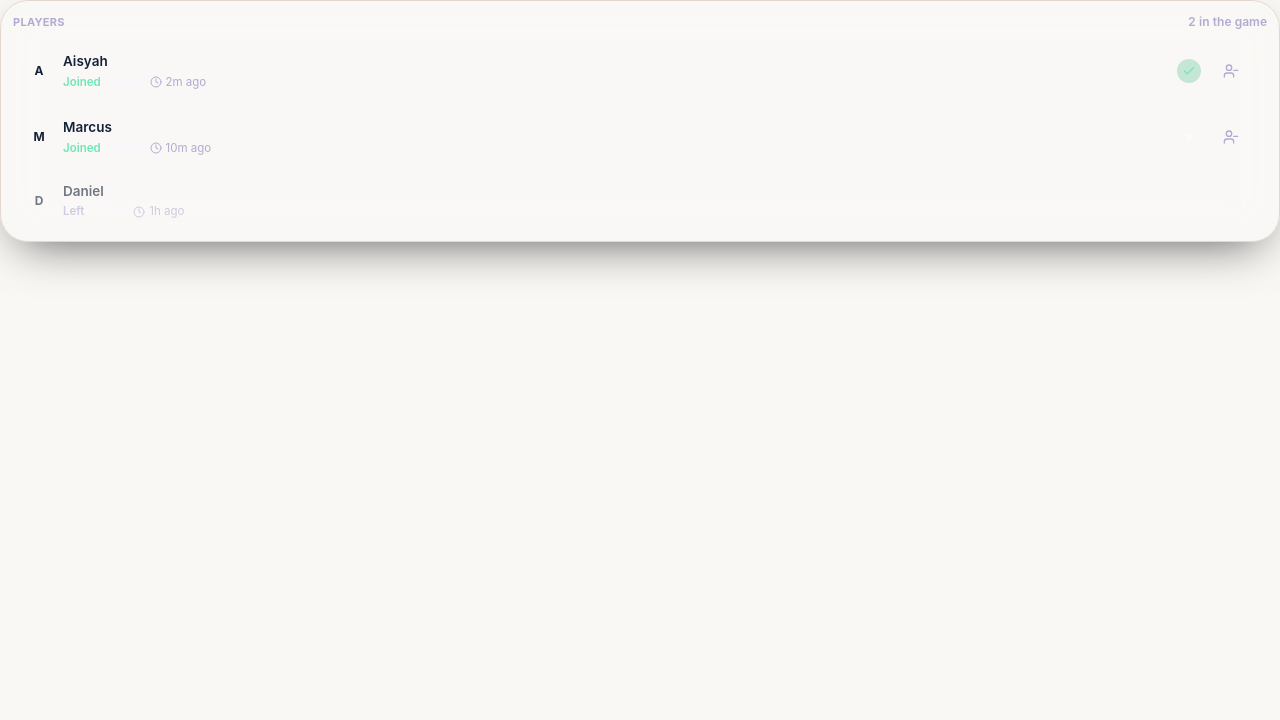
Test case: LiveQuizPlayerList › requires confirmation before removing, and passes the participant id
Later steps or results of the test are not shown.
Click the button named "Remove Aisyah from the game" at (1231, 71), box x1=1209 y1=49 x2=1253 y2=93
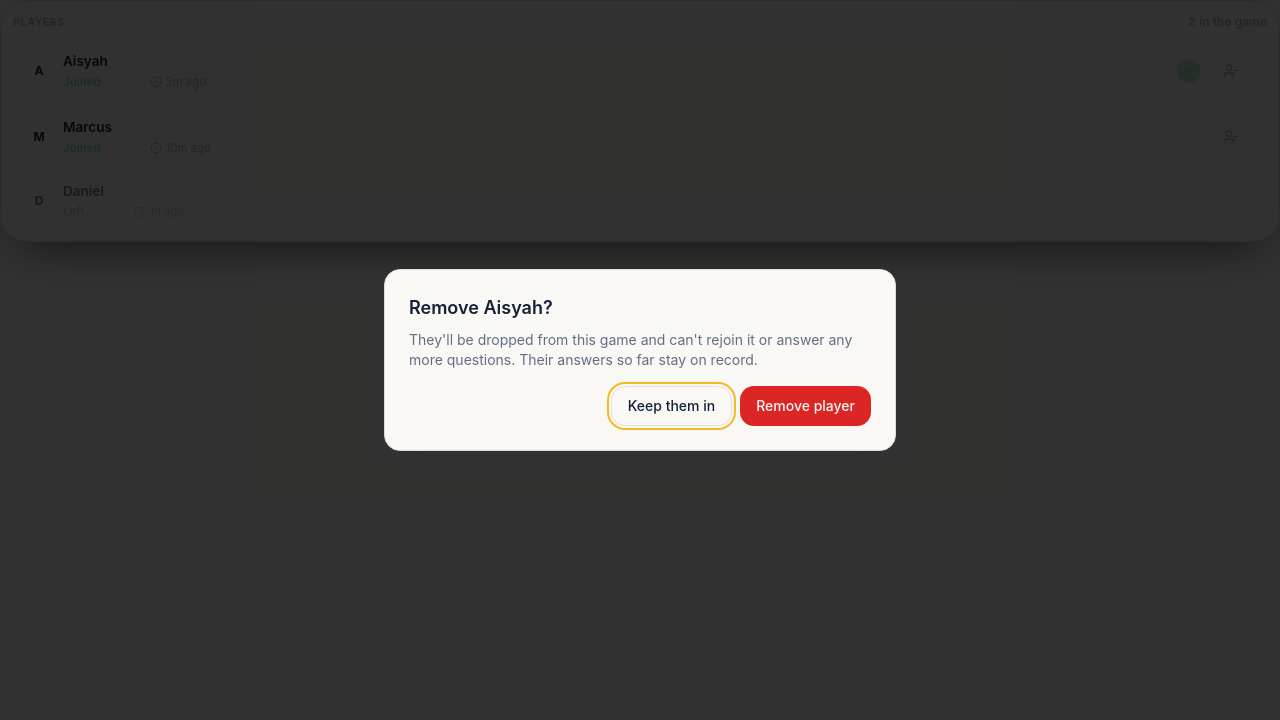
Expected: the heading "Remove Aisyah?" is shown, x1=409 y1=297 x2=553 y2=318
